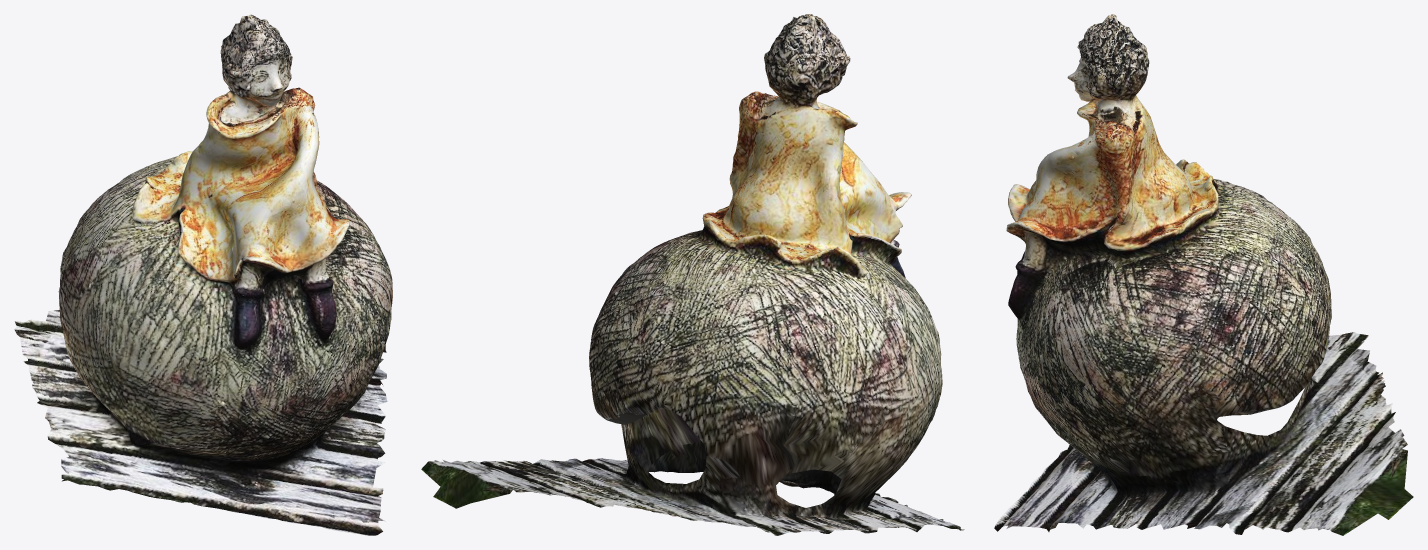
Rendered from goldenGirlOnBall.obj.
3 views of the same model, side by side, from view 1: azimuth 30°, elevation 25°; view 2: azimuth 150°, elevation 25°; view 3: azimuth 270°, elevation 25° (orthographic). The views are drawn at different scales.
Bounding box in the file's own units: 12.41 × 13.86 × 10.98.
Materials: 2 (2 with a texture image).
